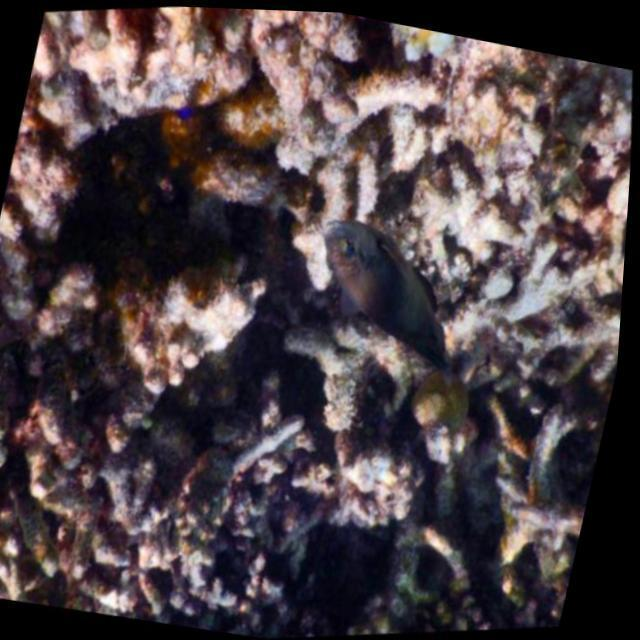Dead Coral: (225, 8, 640, 443), (0, 334, 356, 640), (0, 149, 313, 449), (422, 414, 607, 640)
